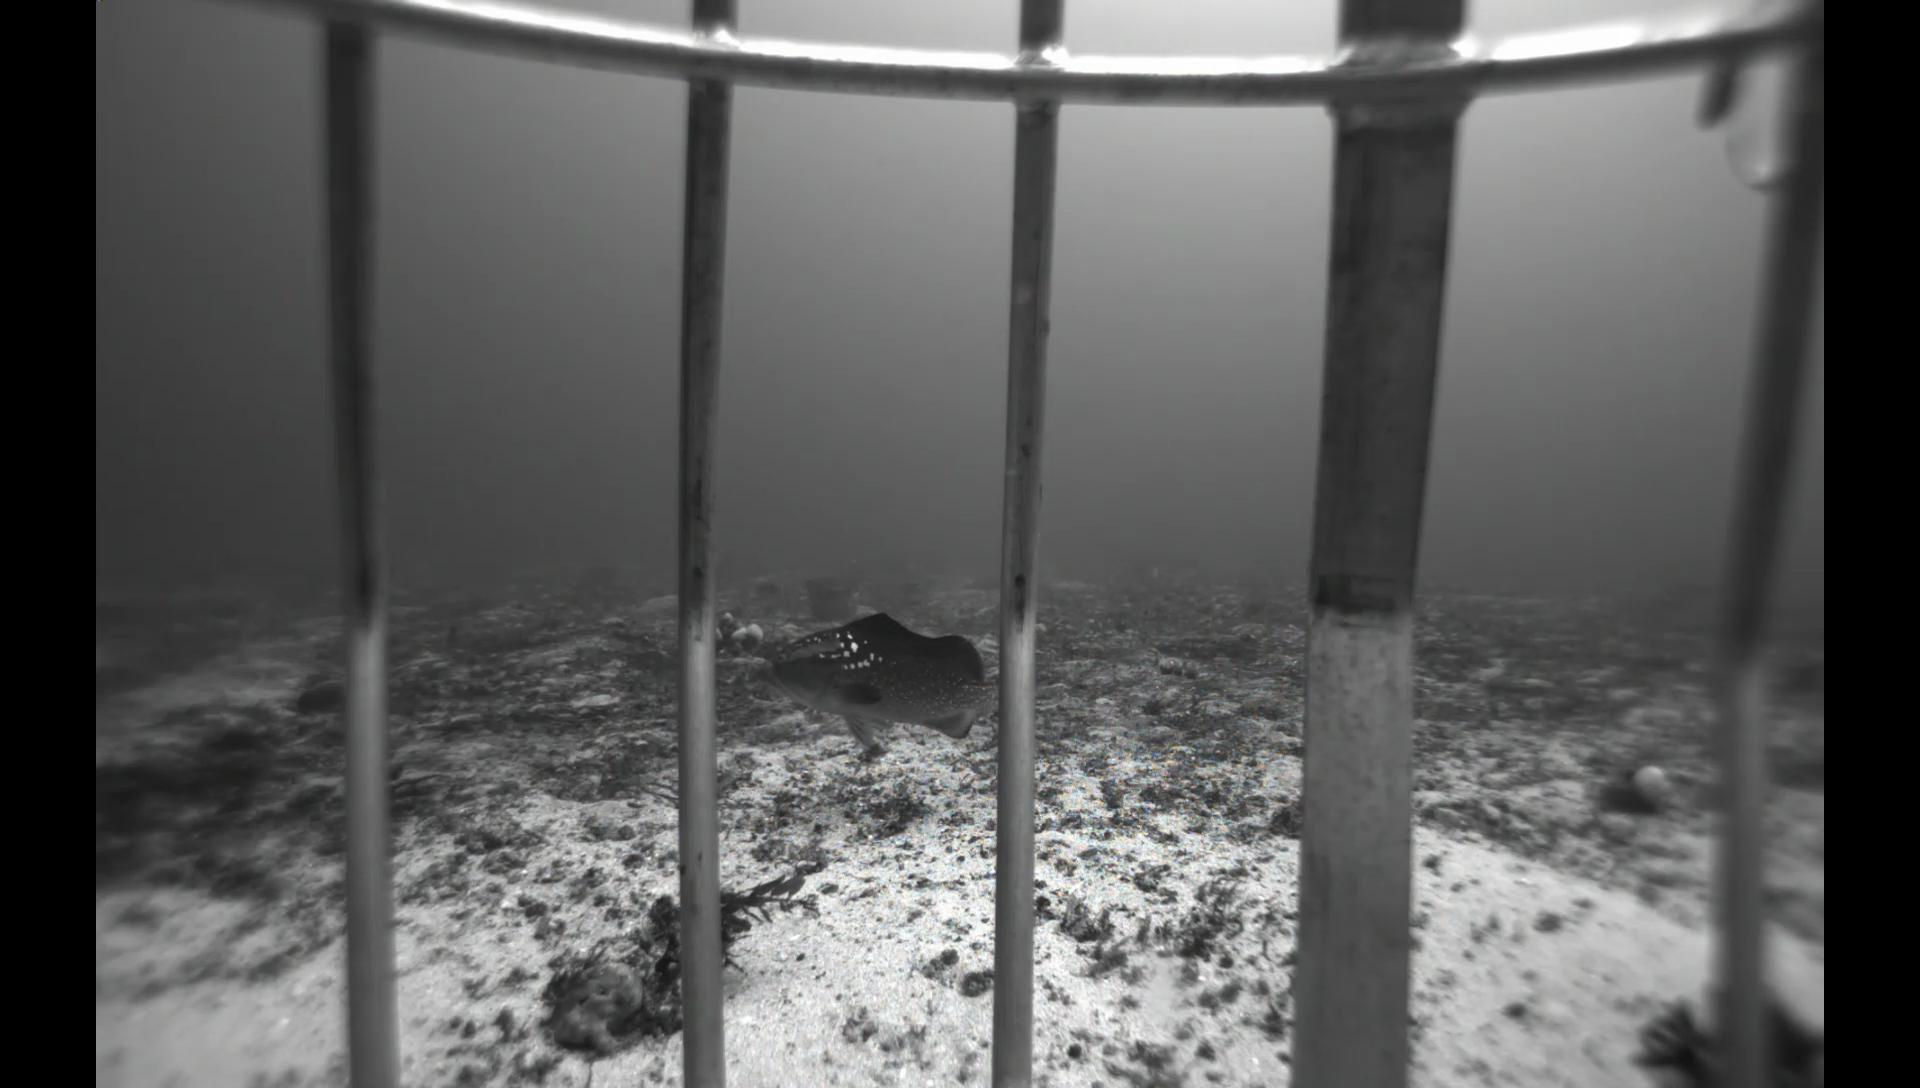CHAETODONOCELLATUS-170260307: (1174, 562, 1204, 586), (1143, 564, 1162, 582)
EPINEPHELUSMORIO-170021211: (756, 605, 998, 757)
HALICHOERESBIVITTATUS-170281202: (96, 688, 154, 716)
PRISTIGENYSALTA-170050401: (290, 677, 348, 719)
